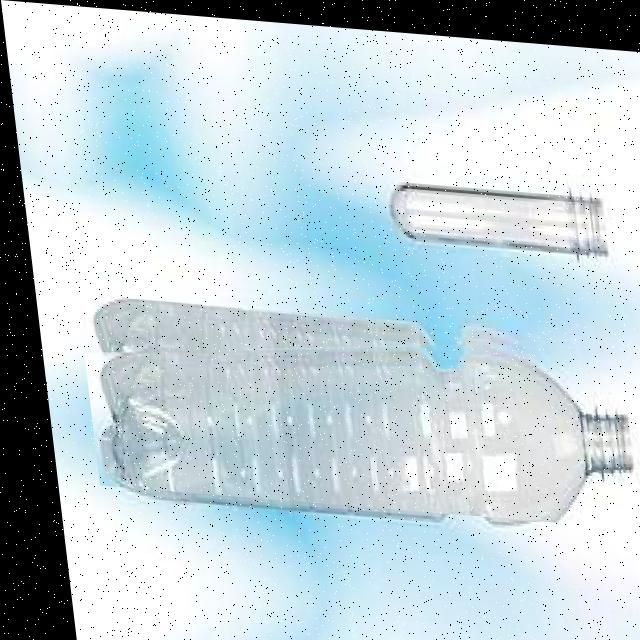litter: (69, 294, 640, 521)
